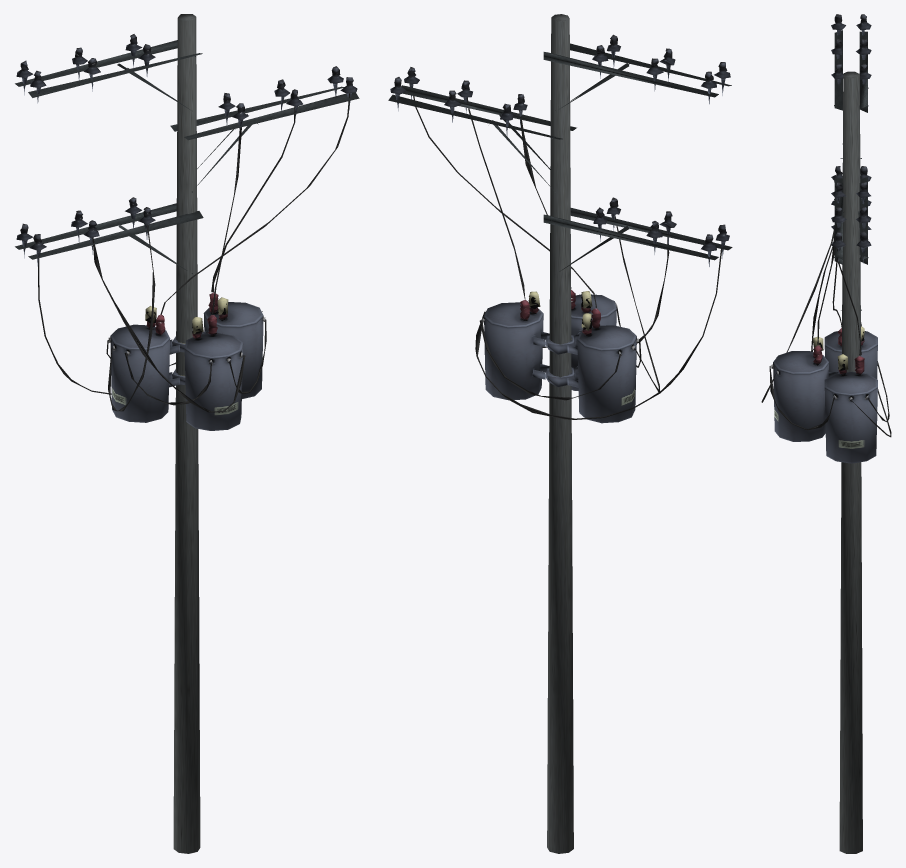
Rendered from pole_concrete_e_lod_2.glb.
3 renders of one model, left to right at view 1: azimuth 30°, elevation 25°; view 2: azimuth 150°, elevation 25°; view 3: azimuth 270°, elevation 25°, orthographic. The views are drawn at different scales.
Parts seen in each view (by area): view 1: pole_concrete_e_lod_2; view 2: pole_concrete_e_lod_2; view 3: pole_concrete_e_lod_2.
Boxes of the visible parts, box(x1,y1,x2,y2) form: pole_concrete_e_lod_2: box(15, 14, 359, 853); pole_concrete_e_lod_2: box(388, 14, 732, 853); pole_concrete_e_lod_2: box(761, 14, 891, 853).
Bounding box in the file's own units: 4.2 × 10.2 × 1.55.
2 materials, 2 textured.
